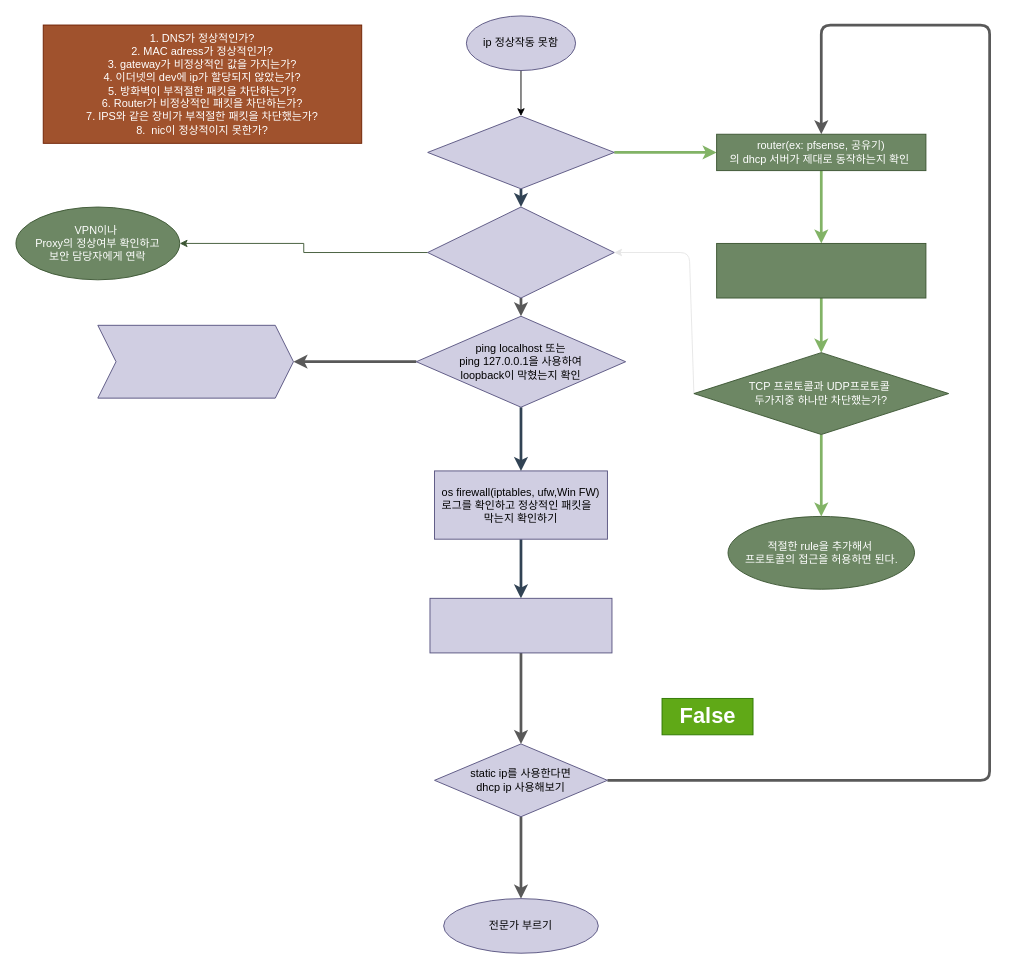
This 1014x969 diagram has some shape labels left out. Each missing label, with the centre of its shape:
"ipconfig / ifconfig를 통하여 ip설정이 정상적인지 확인" goes at [520,152].
"router의 로그를 확인하여 정상적인 로그가 firewall에 의하여 필터링되는지 확인" goes at [821,270].
"vm에 연결된 NIC의 MAC주소와 ip의 맥주소의 정상여부를 확인" goes at [520,625].
"vpn이나 proxy 설정을 체크하여 정상적인 vpn이나 proxy인지 확인" goes at [520,252].
"원인 1. gateway의 비정상 2. firewall의 비정상적인 차단 3. router의 루프백 룰을 차단" goes at [195,361].
